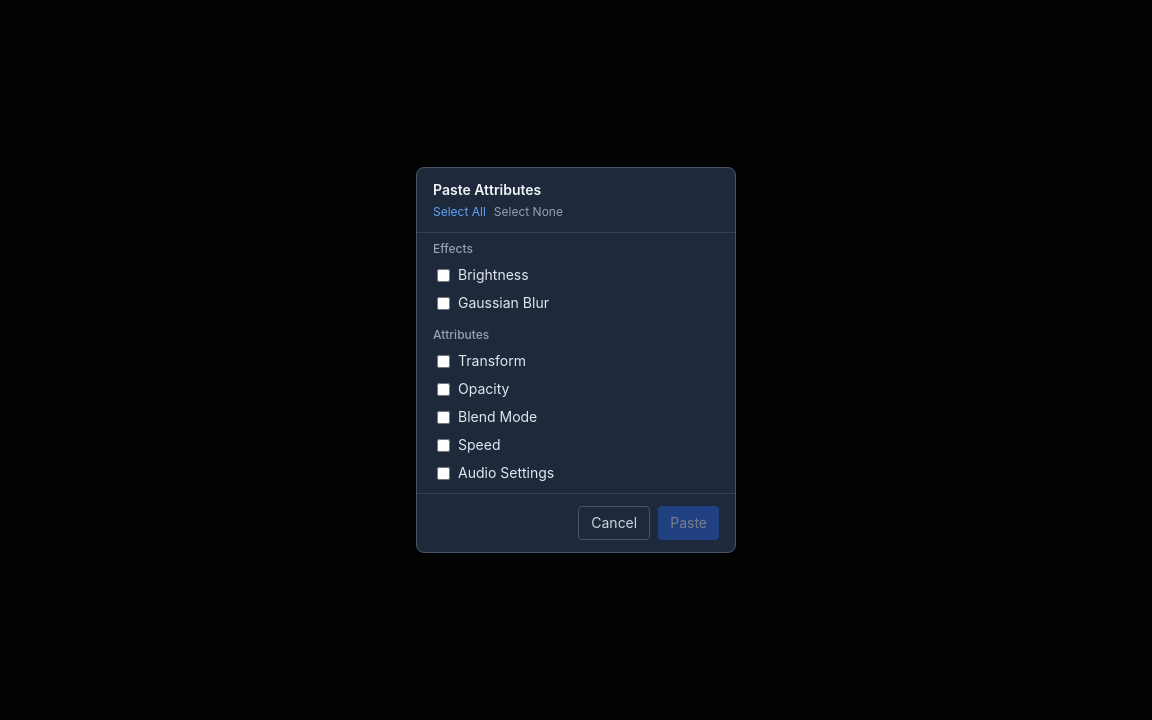
PasteAttributesDialog › button state › should enable Paste button when an effect checkbox is selected
Click the checkbox labelled "Brightness" at point(444, 275), box [437,268,450,282]
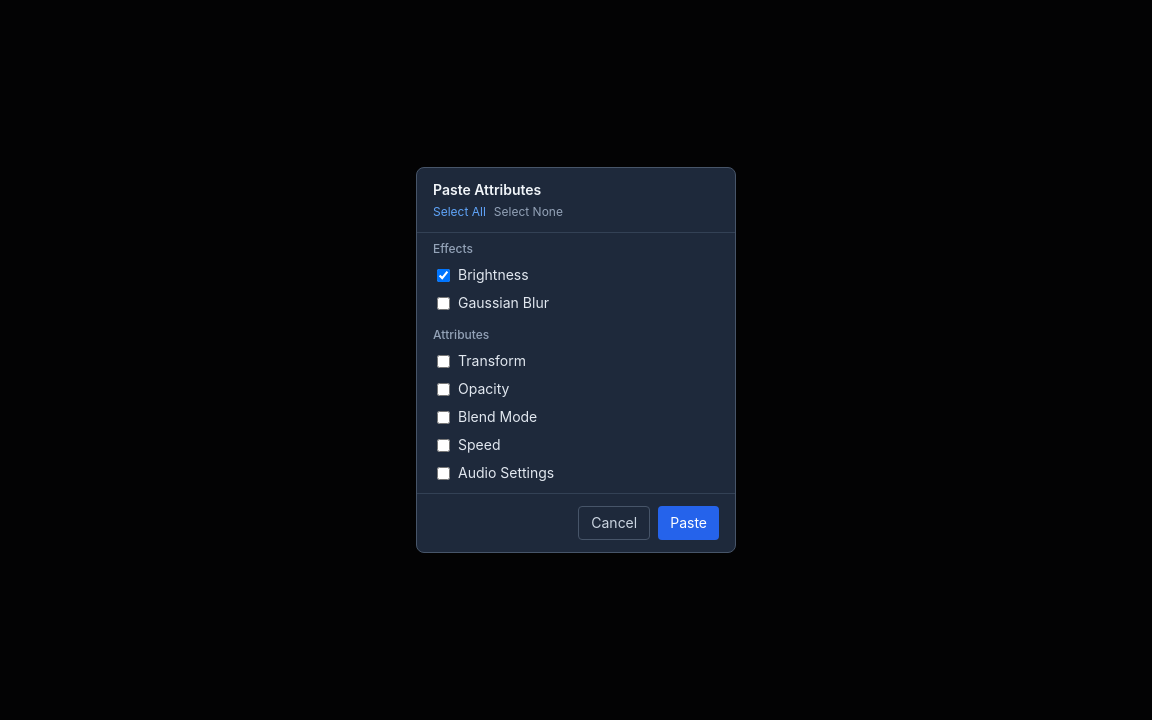
Expected: the button "Paste" is enabled, [658,506,719,540]
